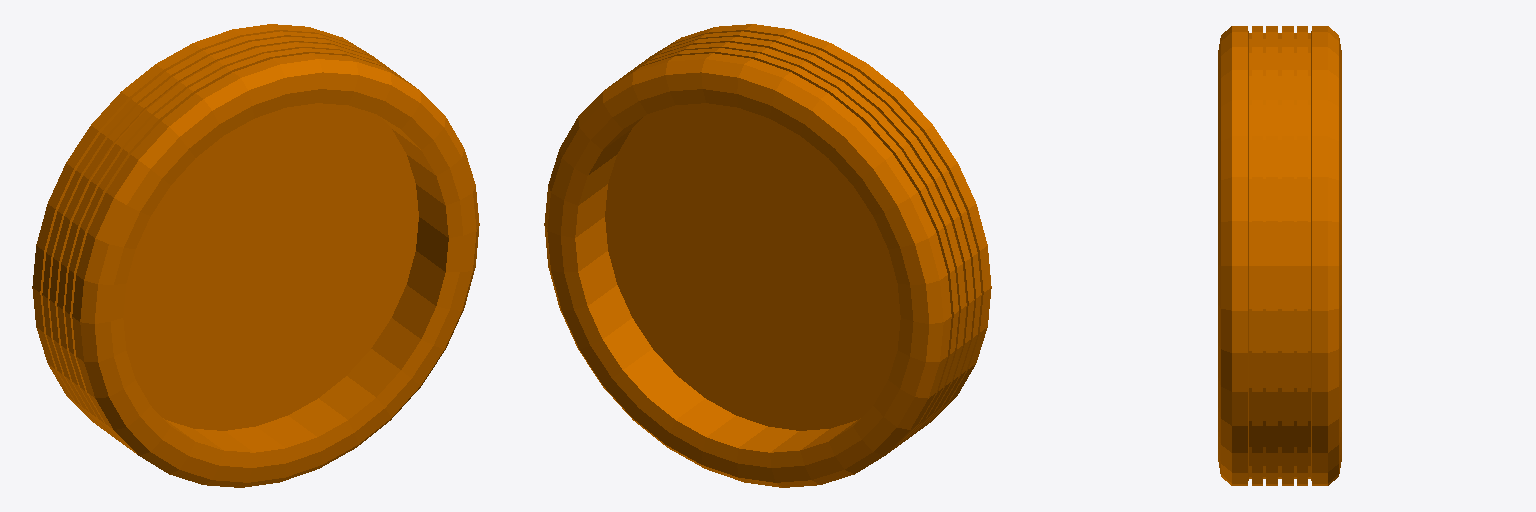
The model's file is pneu.obj.
3 renders of one model, left to right at view 1: azimuth 30°, elevation 25°; view 2: azimuth 150°, elevation 25°; view 3: azimuth 270°, elevation 25°, orthographic.
Visible parts, largest first — view 1: Cylinder; view 2: Cylinder; view 3: Cylinder.
Part boxes in pixels (x1,y1,x2,y2): Cylinder: (32, 24, 479, 487); Cylinder: (544, 24, 991, 487); Cylinder: (1218, 26, 1341, 485).
Bounding box in the file's own units: 2 × 2 × 0.5363.